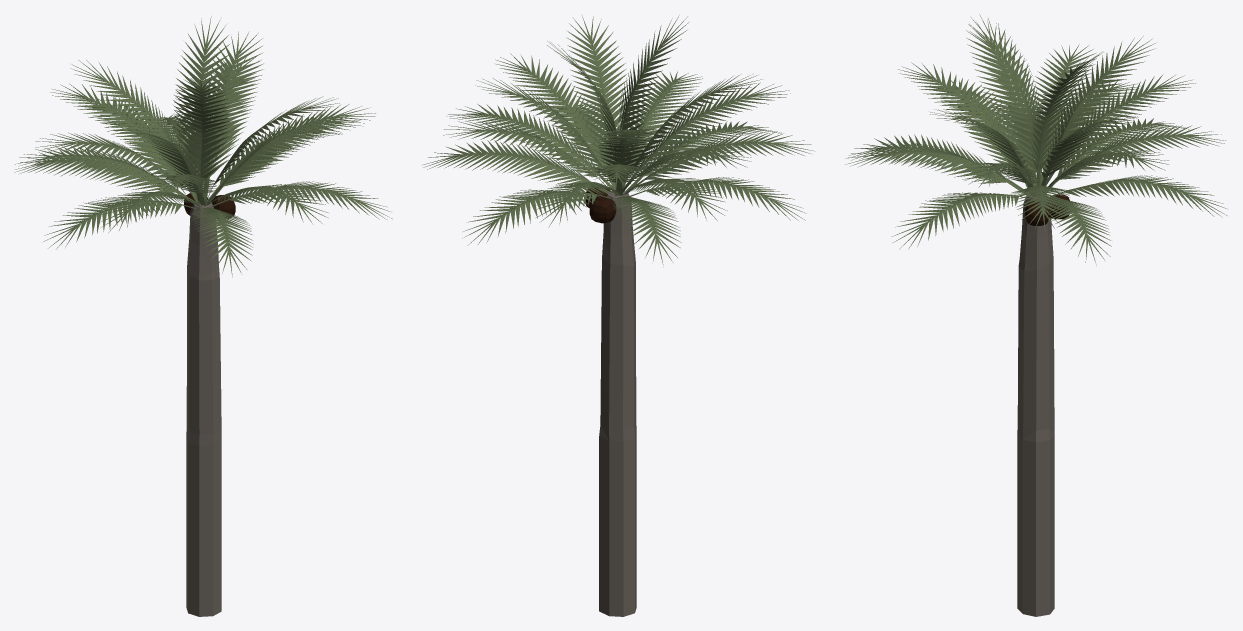
Rendered from 2 Palme (with Coco).fbx.
3 renders of one model, left to right at view 1: azimuth 30°, elevation 25°; view 2: azimuth 150°, elevation 25°; view 3: azimuth 270°, elevation 25°, orthographic. The views are drawn at different scales.
Visible parts, largest first — view 1: Palm 2 (coco); view 2: Palm 2 (coco); view 3: Palm 2 (coco).
Part boxes in pixels (x1=…): Palm 2 (coco): x1=14, y1=16, x2=392, y2=616; Palm 2 (coco): x1=423, y1=15, x2=814, y2=616; Palm 2 (coco): x1=845, y1=14, x2=1227, y2=616.
Bounding box in the file's own units: 462 × 746 × 453.
